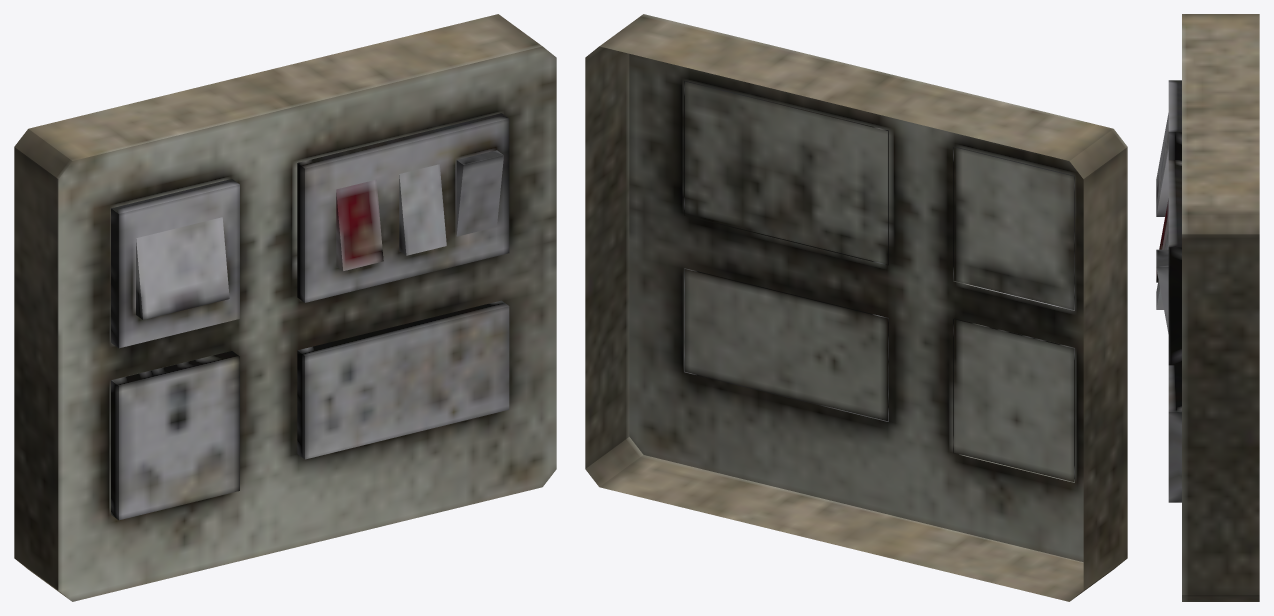
The model's file is Switchboard_03.FBX.
3 views of the same model, side by side, from view 1: azimuth 30°, elevation 25°; view 2: azimuth 150°, elevation 25°; view 3: azimuth 270°, elevation 25° (orthographic). The views are drawn at different scales.
Visible parts, largest first — view 1: Switchboard_03; view 2: Switchboard_03; view 3: Switchboard_03.
Part boxes in pixels (x1,y1,x2,y2): Switchboard_03: (14,14,556,601); Switchboard_03: (585,14,1127,601); Switchboard_03: (1156,14,1259,601).
Size of the model in its own units: 27.44 by 23.2 by 5.63.
